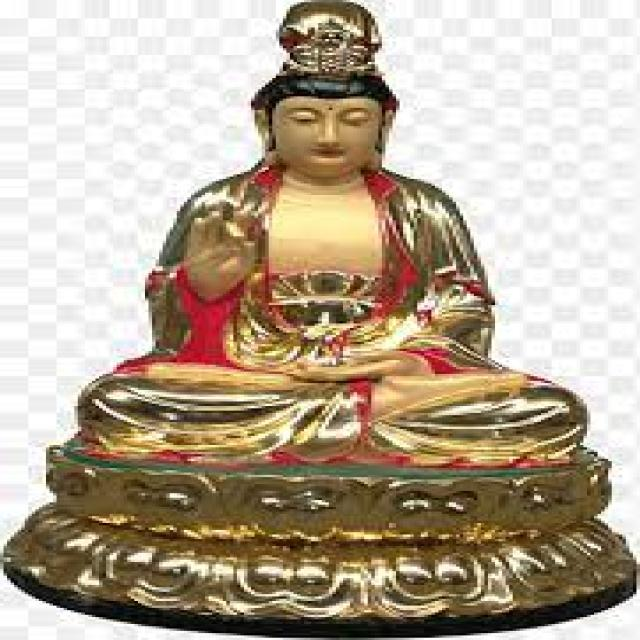Guan Yin: (137, 0, 517, 394)
